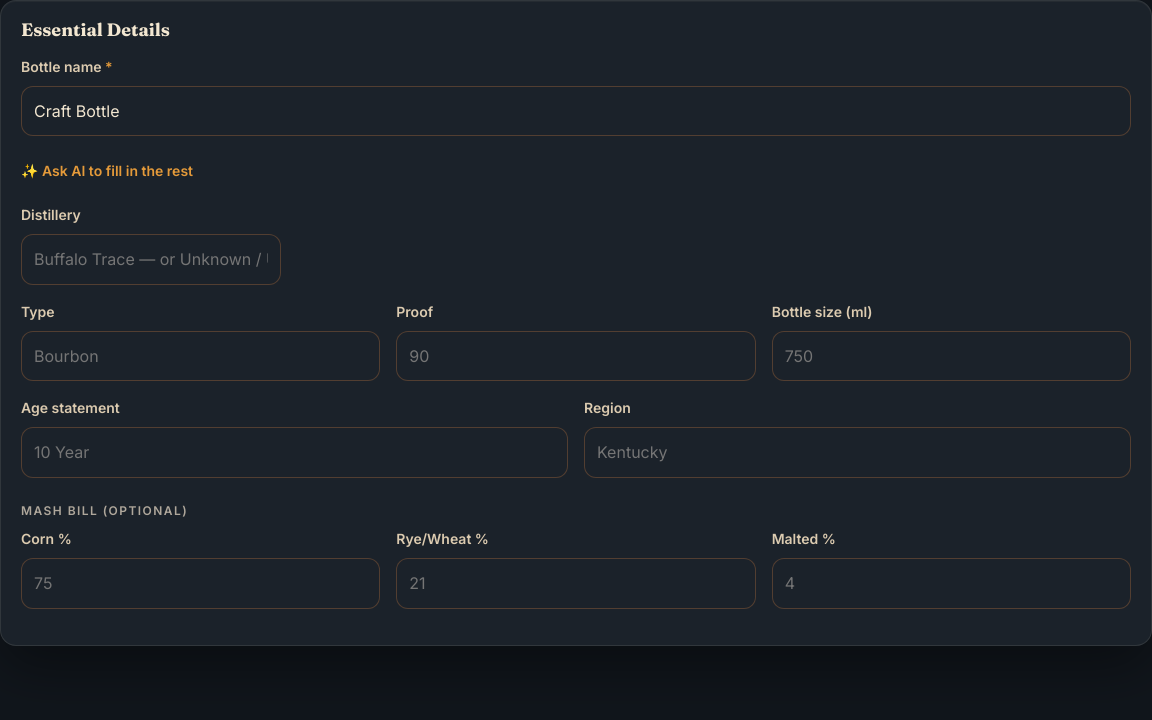
Test: EssentialFieldsCard › shows nothing when the distillery bio lookup comes back unknown
What coordinates should you click on to do the following:
click the button "✨ Ask AI to fill in the rest"
I would click on:
 (107, 170)
Its box is [21,152,193,188].
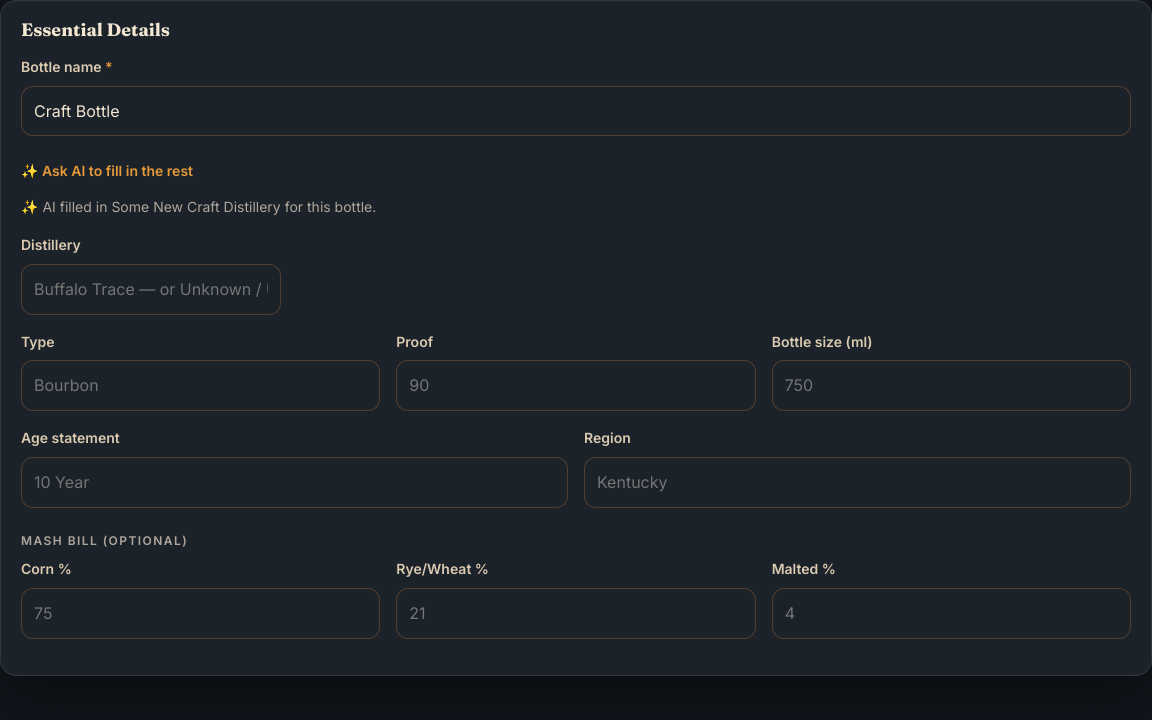
Result: the text "✨ AI filled in Some New Craft Distillery for this bottle." is shown at [21,198,376,215]
